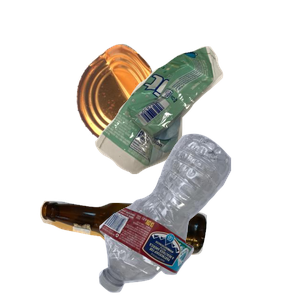glass: (37, 198, 236, 300)
metal: (74, 41, 229, 181)
plastic: (96, 131, 300, 300)
trash: (92, 44, 300, 211)
